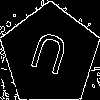U: (25, 30, 71, 86)
